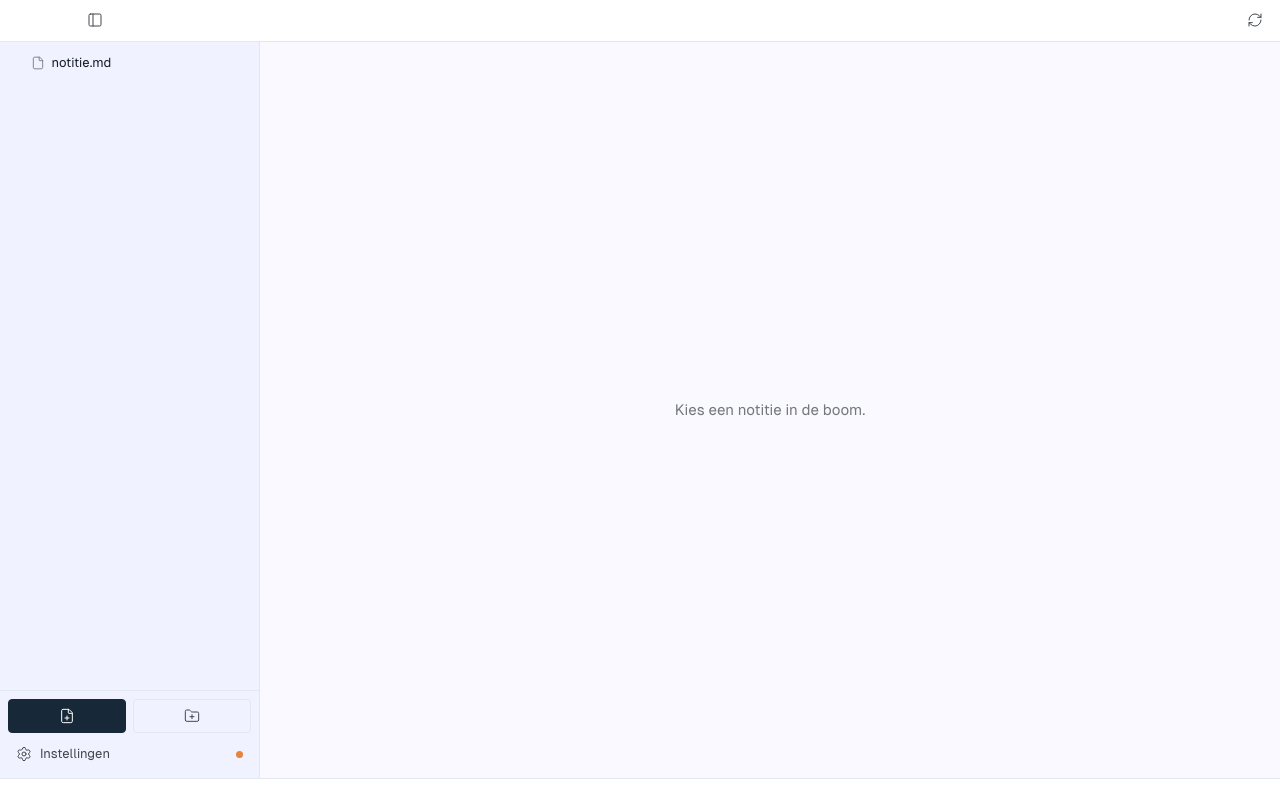
Scenario: App › een notitie kiezen in de quick switcher opent hem en onthoudt hem als recent
This screenshot has width=1280, height=800.
Expected: the text "notitie.md" is shown, [52,55,111,71]
Press k
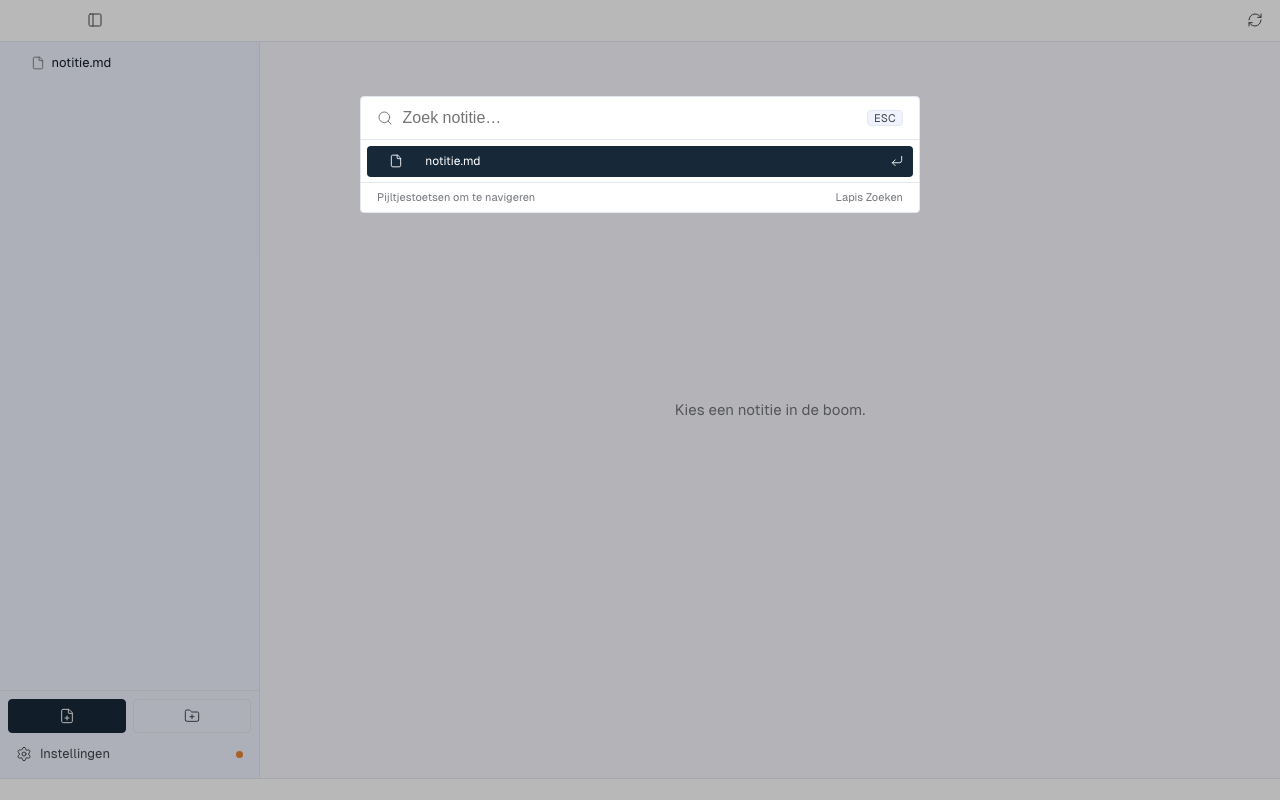
Click the button "notitie.md". click: (453, 161)
box: [367,146,913,177]
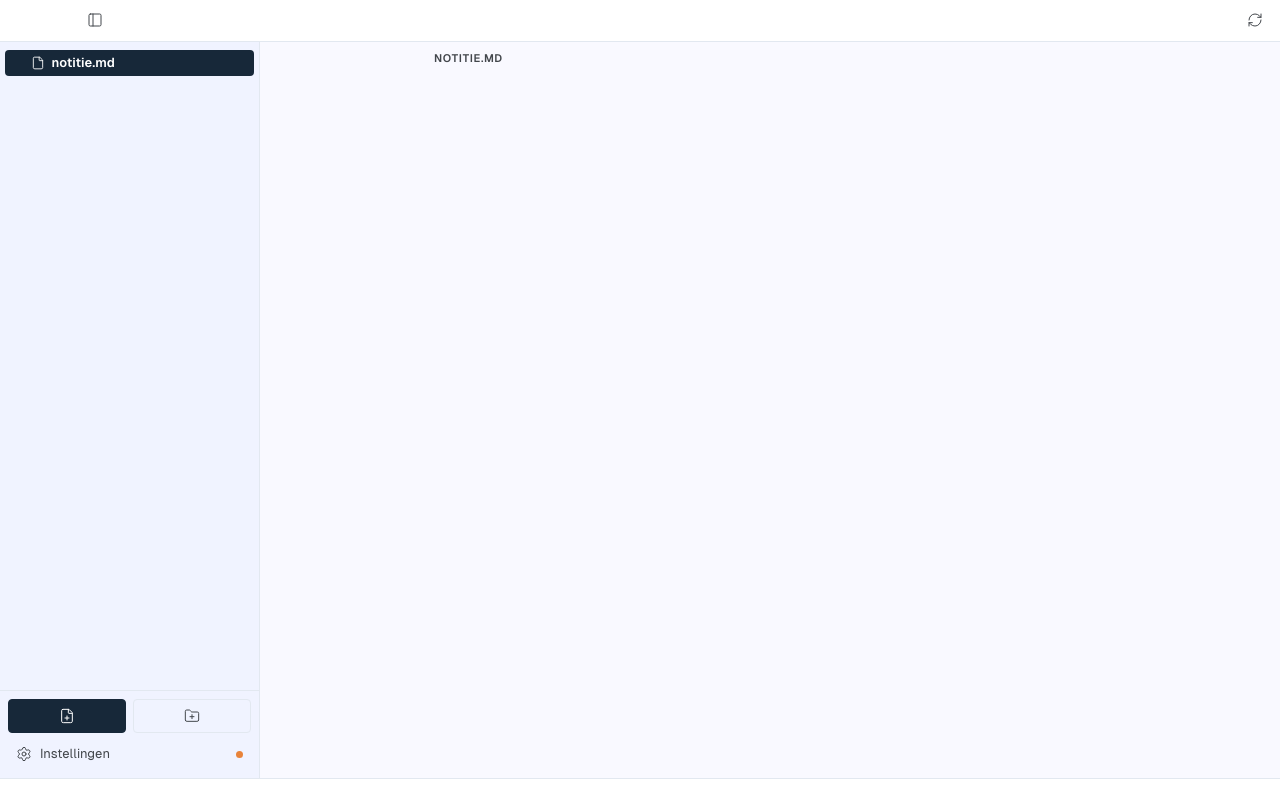
Result: the dialog is gone
